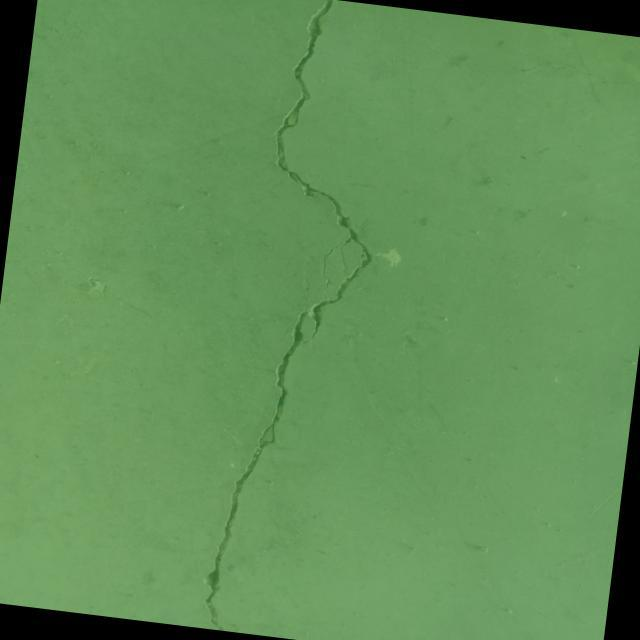crack: (195, 0, 402, 640), (298, 242, 316, 307)
